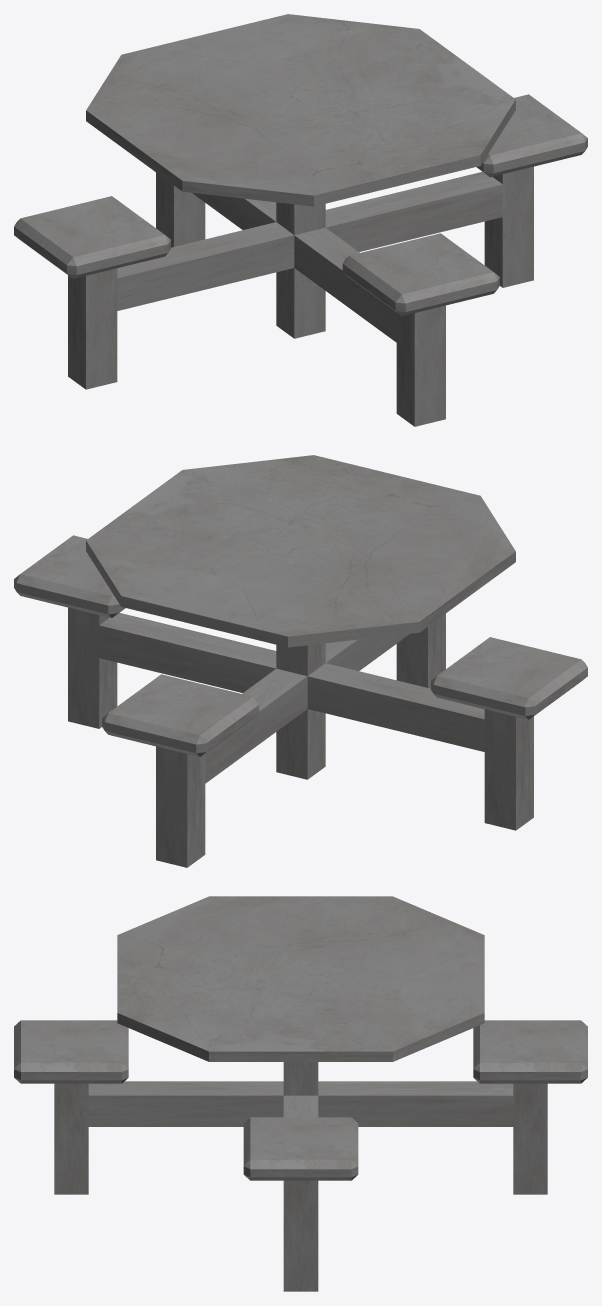
Rendered from cantina-small-table.fbx.
3 renders of one model, top to bottom at view 1: azimuth 30°, elevation 25°; view 2: azimuth 150°, elevation 25°; view 3: azimuth 270°, elevation 25°, orthographic. The views are drawn at different scales.
Visible parts, largest first — view 1: Top, LegLower1, ChairTop2, ChairTop3, LegLower2, LegChair3, LegChair2, ChairTop4, LegChair4, LegMain, LegChair1; view 2: Top, LegLower1, ChairTop1, ChairTop3, LegLower2, LegChair3, LegChair1, ChairTop4, LegChair4, LegMain, LegChair2; view 3: Top, LegLower2, ChairTop4, ChairTop2, ChairTop1, LegChair4, LegChair2, LegChair1, LegMain, LegLower1.
Boxes of the visible parts, x1=… form: Top: x1=86, y1=14, x2=515, y2=206; LegLower1: x1=102, y1=171, x2=518, y2=314; ChairTop2: x1=342, y1=233, x2=499, y2=315; ChairTop3: x1=14, y1=196, x2=170, y2=278; LegLower2: x1=192, y1=193, x2=405, y2=348; LegChair3: x1=68, y1=268, x2=117, y2=389; LegChair2: x1=396, y1=305, x2=445, y2=426; ChairTop4: x1=476, y1=94, x2=587, y2=177; LegChair4: x1=484, y1=166, x2=533, y2=287; LegMain: x1=276, y1=202, x2=325, y2=338; LegChair1: x1=156, y1=172, x2=205, y2=247; Top: x1=86, y1=455, x2=515, y2=647; LegLower1: x1=84, y1=612, x2=498, y2=752; ChairTop1: x1=102, y1=674, x2=259, y2=756; ChairTop3: x1=431, y1=637, x2=587, y2=719; LegLower2: x1=197, y1=634, x2=409, y2=783; LegChair3: x1=484, y1=709, x2=533, y2=830; LegChair1: x1=156, y1=746, x2=205, y2=867; ChairTop4: x1=14, y1=535, x2=125, y2=618; LegChair4: x1=68, y1=607, x2=117, y2=728; LegMain: x1=276, y1=643, x2=325, y2=779; LegChair2: x1=396, y1=613, x2=445, y2=688; Top: x1=117, y1=896, x2=484, y2=1061; LegLower2: x1=88, y1=1081, x2=513, y2=1126; ChairTop4: x1=243, y1=1117, x2=358, y2=1180; ChairTop2: x1=14, y1=1020, x2=128, y2=1083; ChairTop1: x1=473, y1=1020, x2=587, y2=1083; LegChair4: x1=283, y1=1180, x2=318, y2=1291; LegChair2: x1=54, y1=1083, x2=88, y2=1194; LegChair1: x1=513, y1=1083, x2=547, y2=1194; LegMain: x1=283, y1=1062, x2=318, y2=1095; LegLower1: x1=283, y1=1095, x2=318, y2=1117.
Size of the model in its own units: 500 by 205 by 500.
